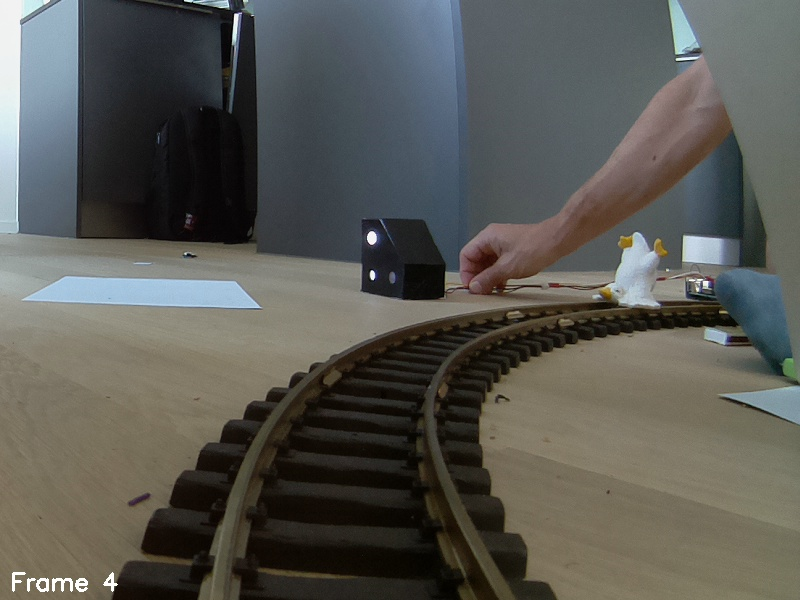Ente: (592, 229, 668, 318)
Fahrt: (358, 220, 449, 305)
